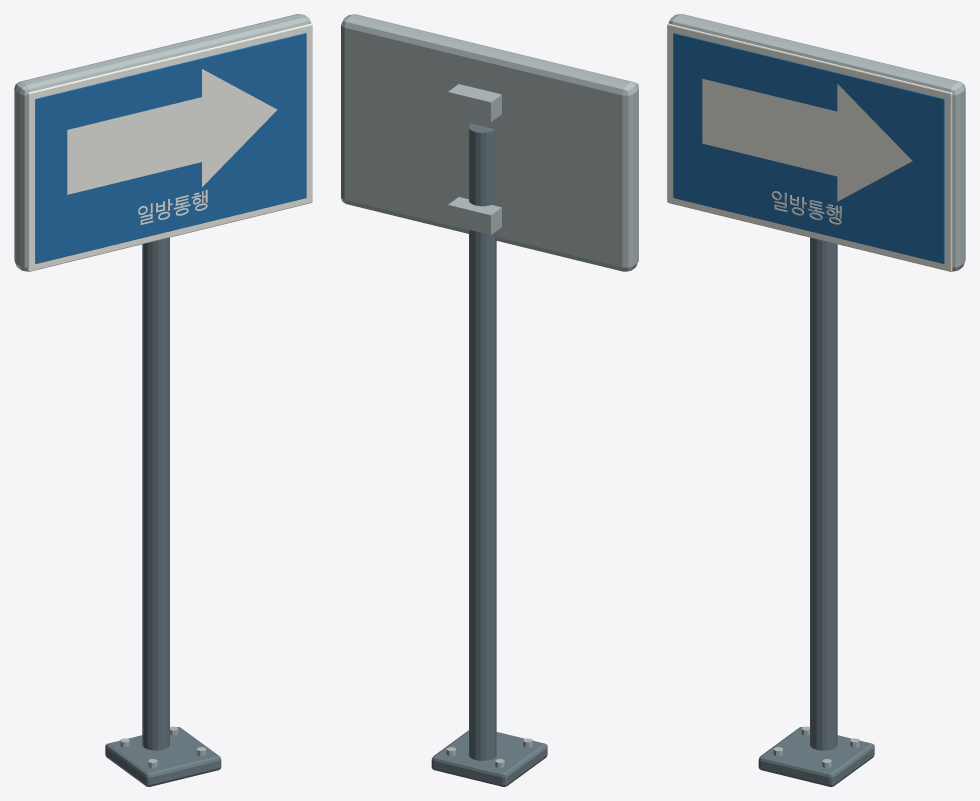
Rendered from SIMUS_Sign_OneWay.fbx.
The picture shows the model from 3 angles, left to right: view 1: azimuth 30°, elevation 25°; view 2: azimuth 150°, elevation 25°; view 3: azimuth 330°, elevation 25°; orthographic projection.
Visible parts, largest first — view 1: Blue face, Post.003, Forward arrow, White border, Board back, Foot plate.003, Legend 일방통행; view 2: Board back, Post.003, Foot plate.003, Rear clamp.007, Rear clamp.006; view 3: Blue face, Post.003, Forward arrow, White border, Board back, Foot plate.003, Legend 일방통행.
Part boxes in pixels (<box>): Blue face: <box>35,33,306,263</box>; Post.003: <box>142,237,169,750</box>; Forward arrow: <box>67,69,277,194</box>; White border: <box>27,23,312,271</box>; Board back: <box>14,14,311,271</box>; Foot plate.003: <box>105,727,221,786</box>; Legend 일방통행: <box>138,189,207,224</box>; Board back: <box>341,14,638,271</box>; Post.003: <box>469,123,496,760</box>; Foot plate.003: <box>431,730,547,786</box>; Rear clamp.007: <box>448,84,501,121</box>; Rear clamp.006: <box>448,197,501,234</box>; Blue face: <box>673,33,944,263</box>; Post.003: <box>810,237,837,750</box>; Forward arrow: <box>702,78,912,201</box>; White border: <box>667,23,952,271</box>; Board back: <box>668,14,965,271</box>; Foot plate.003: <box>758,727,874,786</box>; Legend 일방통행: <box>771,191,841,224</box>.
Size of the model in its own units: 108 by 253 by 28.
